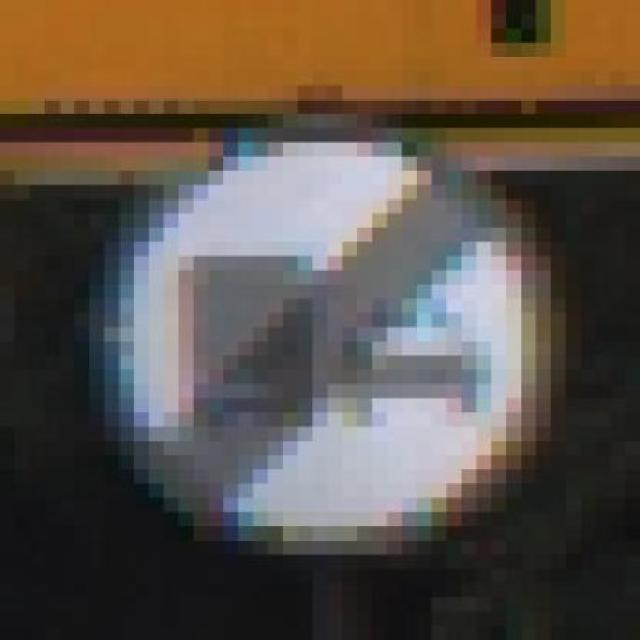Overtaking by trucks is prohibited: (74, 71, 611, 597)
